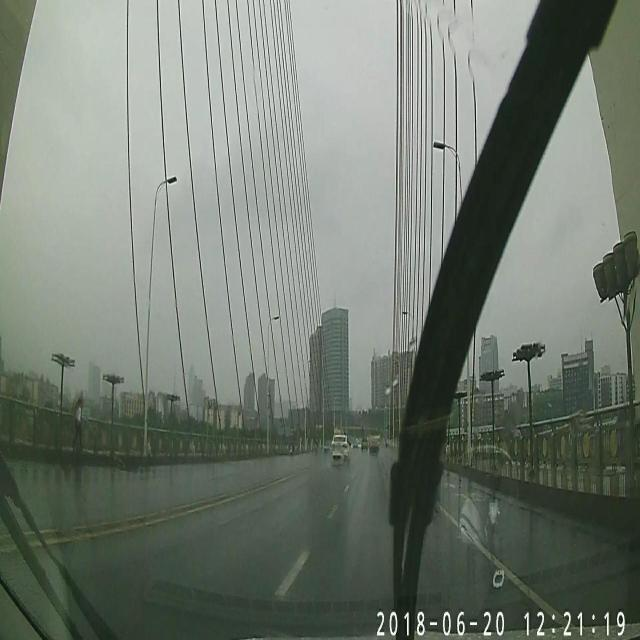car: (329, 432, 351, 462), (368, 436, 381, 454)
